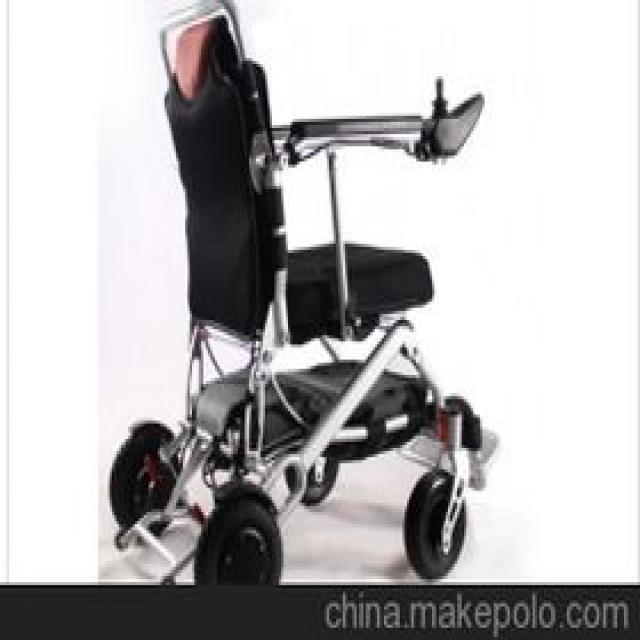wheelchair: (99, 0, 492, 579)
